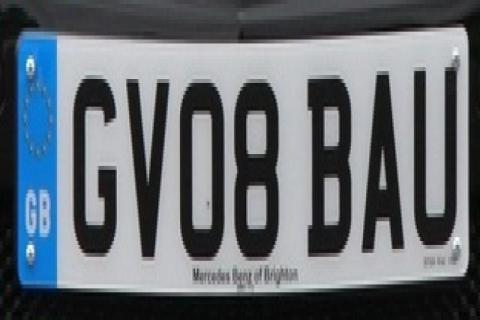LicensePlate: (5, 6, 474, 304)
